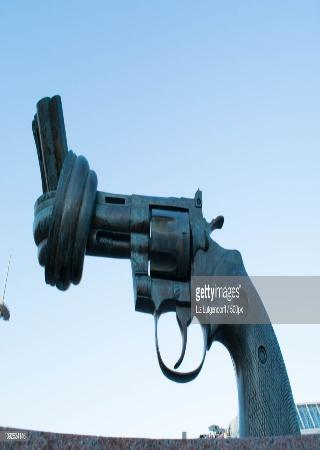handgun: (27, 89, 306, 437)
